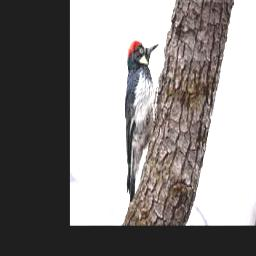Woodpecker: (125, 40, 159, 204)
